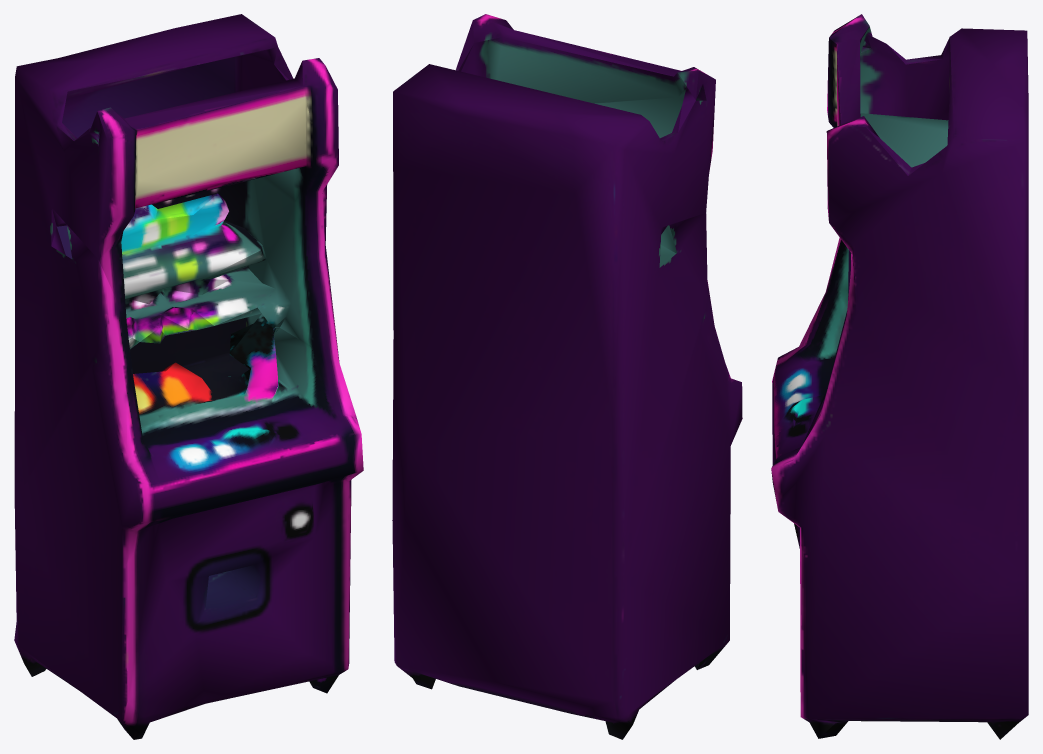
File: paintball-vending.glb
3 views of the same model, side by side, from view 1: azimuth 30°, elevation 25°; view 2: azimuth 150°, elevation 25°; view 3: azimuth 270°, elevation 25° (orthographic).
Parts seen in each view (by area): view 1: geometry_0.001; view 2: geometry_0.001; view 3: geometry_0.001.
Part boxes in pixels (bbox=[...]): geometry_0.001: bbox=[14, 14, 363, 739]; geometry_0.001: bbox=[392, 14, 742, 739]; geometry_0.001: bbox=[771, 14, 1028, 739].
Bounding box in the file's own units: 0.3895 × 1 × 0.3745.
Materials: 1 (1 with a texture image).
